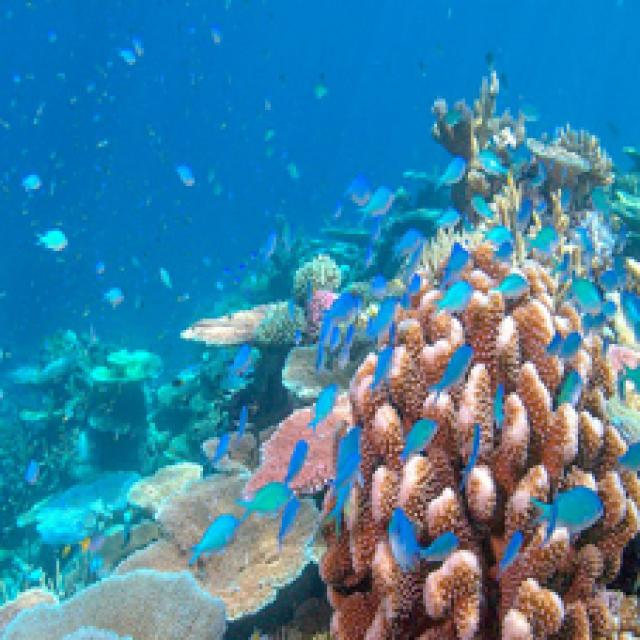Healthy: (320, 241, 638, 638), (136, 477, 317, 618), (1, 568, 230, 640), (246, 410, 337, 497)
